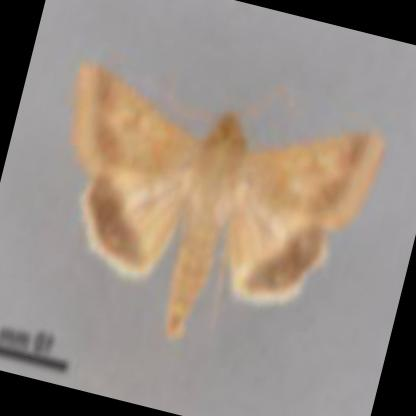helicoverpa: (76, 62, 378, 340)
